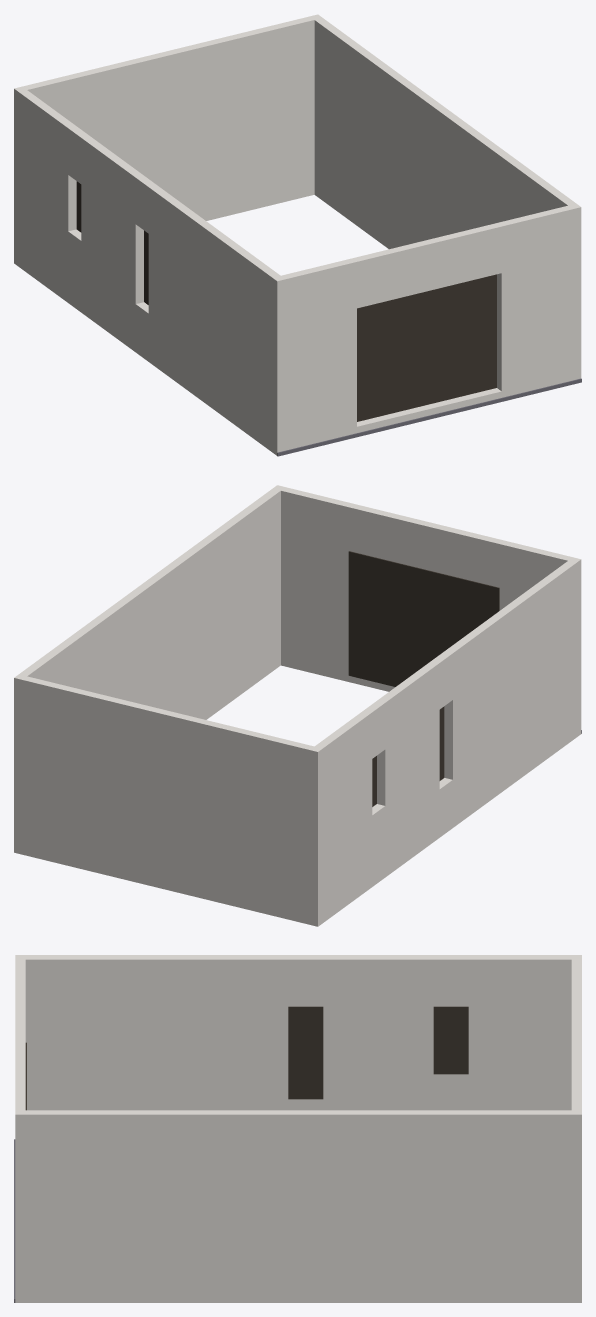
File: SM_Floor_NarrowUpperBalconyEndL_White_546_01.gltf
3 views of the same model, one above another, from view 1: azimuth 30°, elevation 25°; view 2: azimuth 150°, elevation 25°; view 3: azimuth 270°, elevation 25° (orthographic). The views are drawn at different scales.
Parts seen in each view (by area): view 1: SM_Floor_NarrowUpperBalconyEndL_White_546_01; view 2: SM_Floor_NarrowUpperBalconyEndL_White_546_01; view 3: SM_Floor_NarrowUpperBalconyEndL_White_546_01.
Boxes of the visible parts, x1=… form: SM_Floor_NarrowUpperBalconyEndL_White_546_01: x1=14, y1=14, x2=581, y2=456; SM_Floor_NarrowUpperBalconyEndL_White_546_01: x1=14, y1=485, x2=581, y2=926; SM_Floor_NarrowUpperBalconyEndL_White_546_01: x1=14, y1=955, x2=581, y2=1302.
Size of the model in its own units: 5.46 by 3 by 8.21.
Materials: 1 (1 with a texture image).
